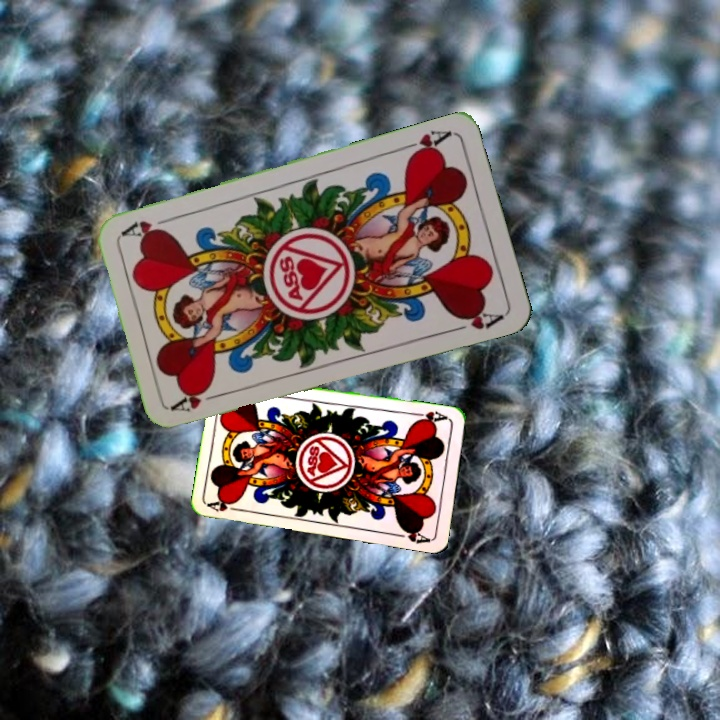HA: (396, 126, 454, 162), (169, 385, 227, 415), (410, 407, 451, 427), (205, 495, 246, 514)
